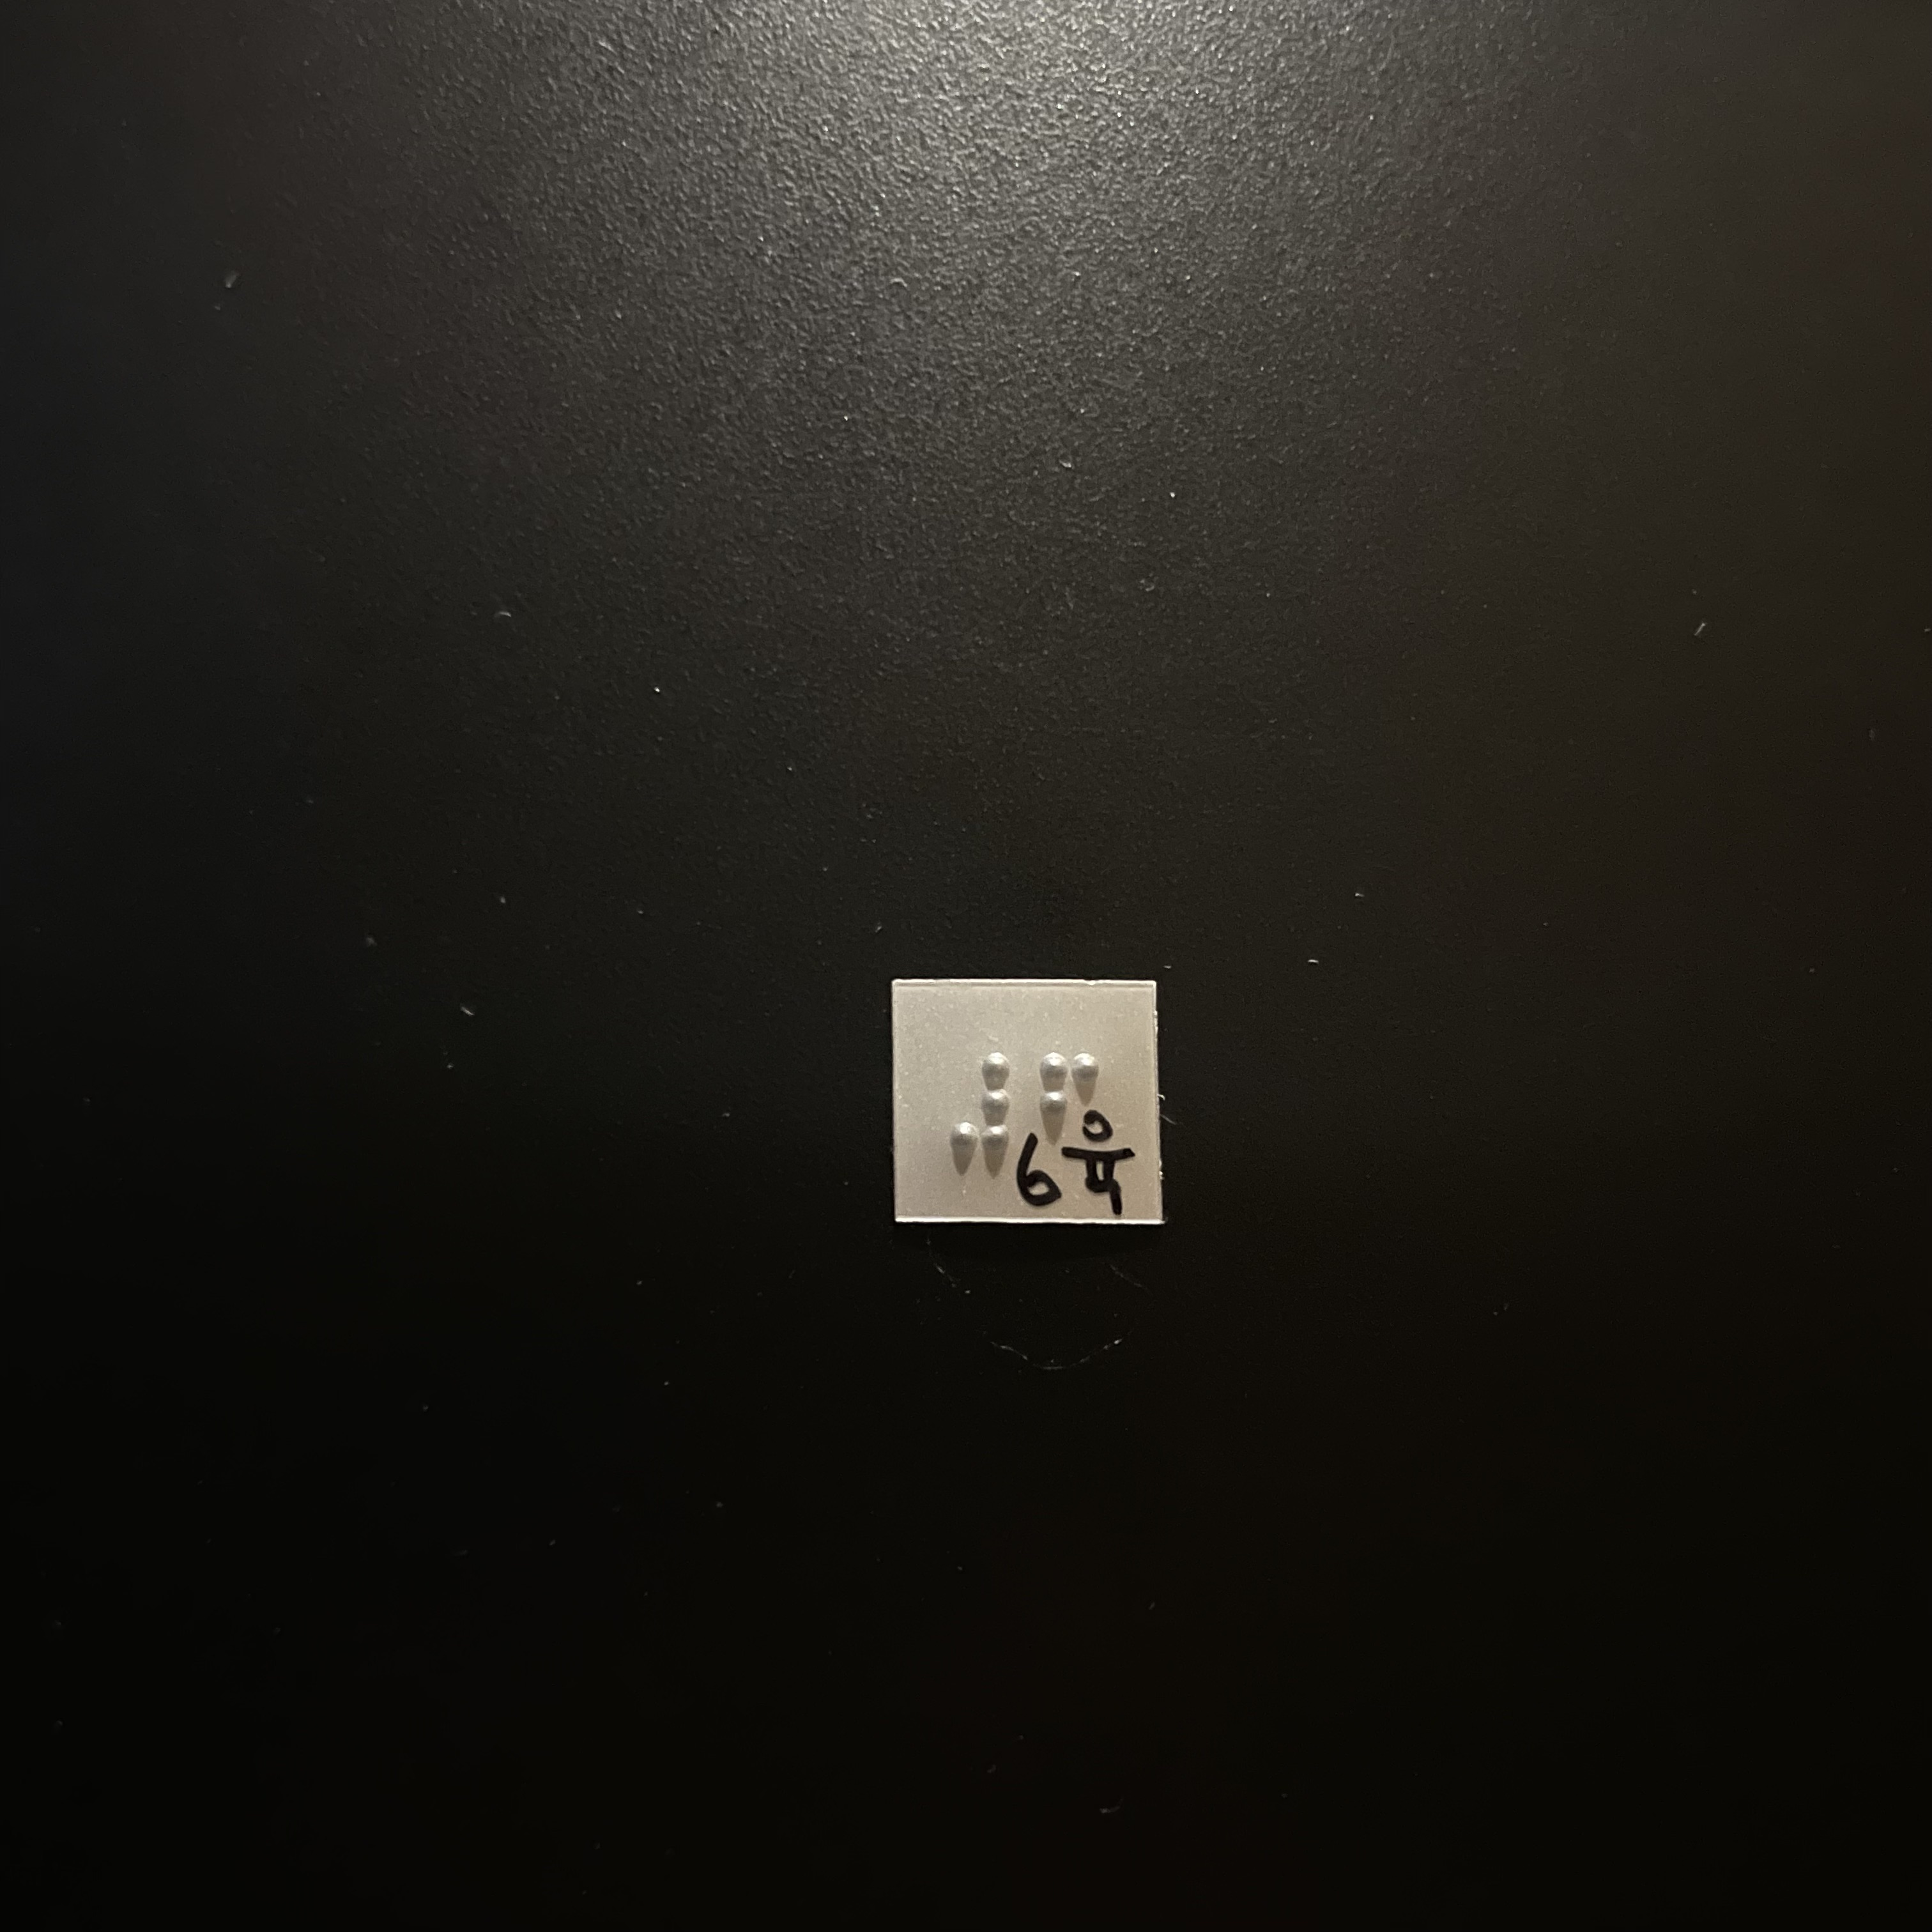#: (946, 1051, 1018, 1179)
f: (1029, 1048, 1104, 1172)
